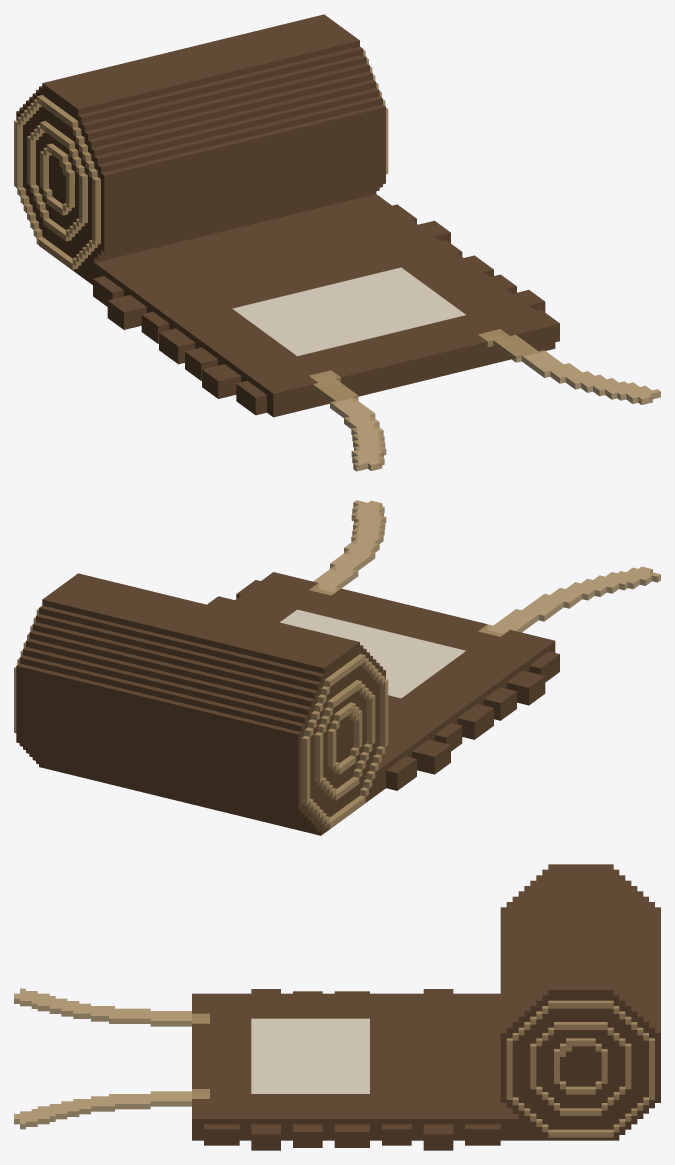
File: bellywrap_fur.glb
3 views of the same model, one above another, from view 1: azimuth 30°, elevation 25°; view 2: azimuth 150°, elevation 25°; view 3: azimuth 270°, elevation 25° (orthographic). The views are drawn at different scales.
Visible parts, largest first — view 1: bellywrap_fur:compound; view 2: bellywrap_fur:compound; view 3: bellywrap_fur:compound.
Part boxes in pixels (bbox=[...]): bellywrap_fur:compound: bbox=[14, 14, 660, 471]; bellywrap_fur:compound: bbox=[14, 500, 660, 835]; bellywrap_fur:compound: bbox=[14, 864, 660, 1150].
Bounding box in the file's own units: 0.232 × 0.112 × 0.436.
